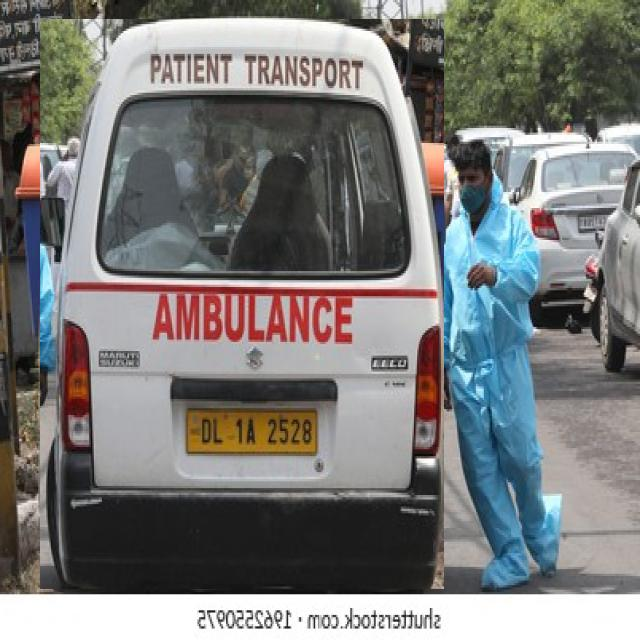car: (510, 144, 638, 310)
emergency: (40, 19, 444, 589)
